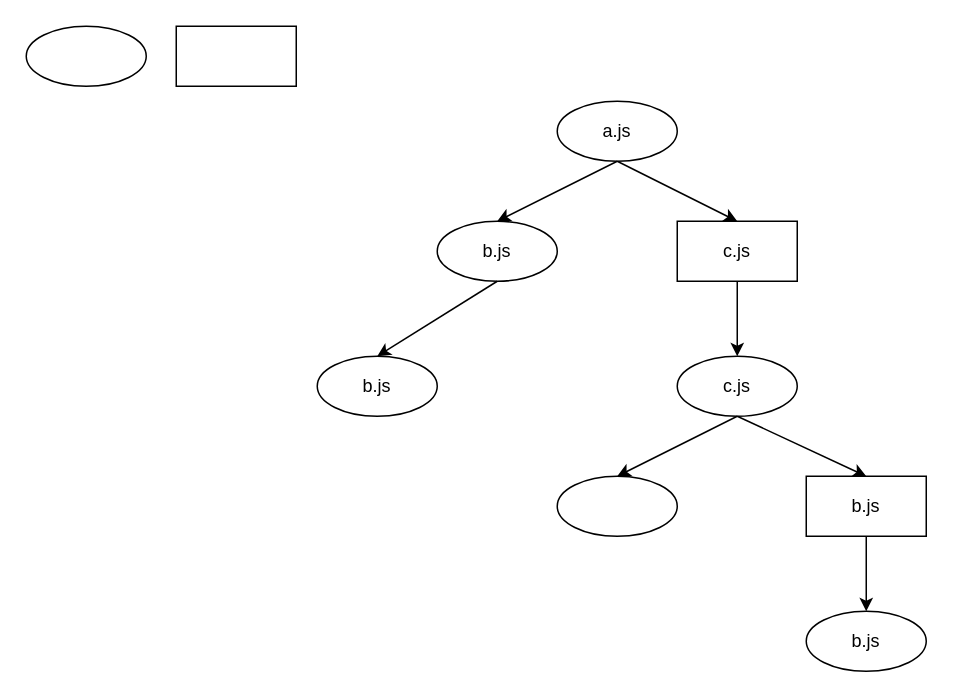
The diagram is 953 pixels wide and 698 high, and some of its shapes have lost their labels. Each missing label, with the box of its shape:
block: (175, 25, 296, 86)
d.js: (556, 475, 677, 536)
module: (25, 25, 146, 86)
